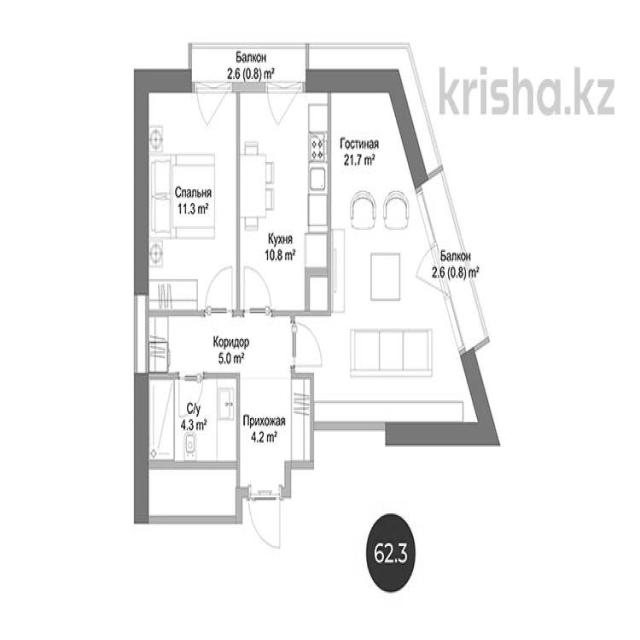balcony: (421, 166, 490, 351), (192, 43, 310, 87)
bathroom: (148, 382, 235, 465)
hallway: (146, 320, 294, 378), (241, 380, 312, 489)
kitchen: (238, 88, 329, 308)
living_room: (299, 89, 479, 423), (149, 84, 238, 309)
